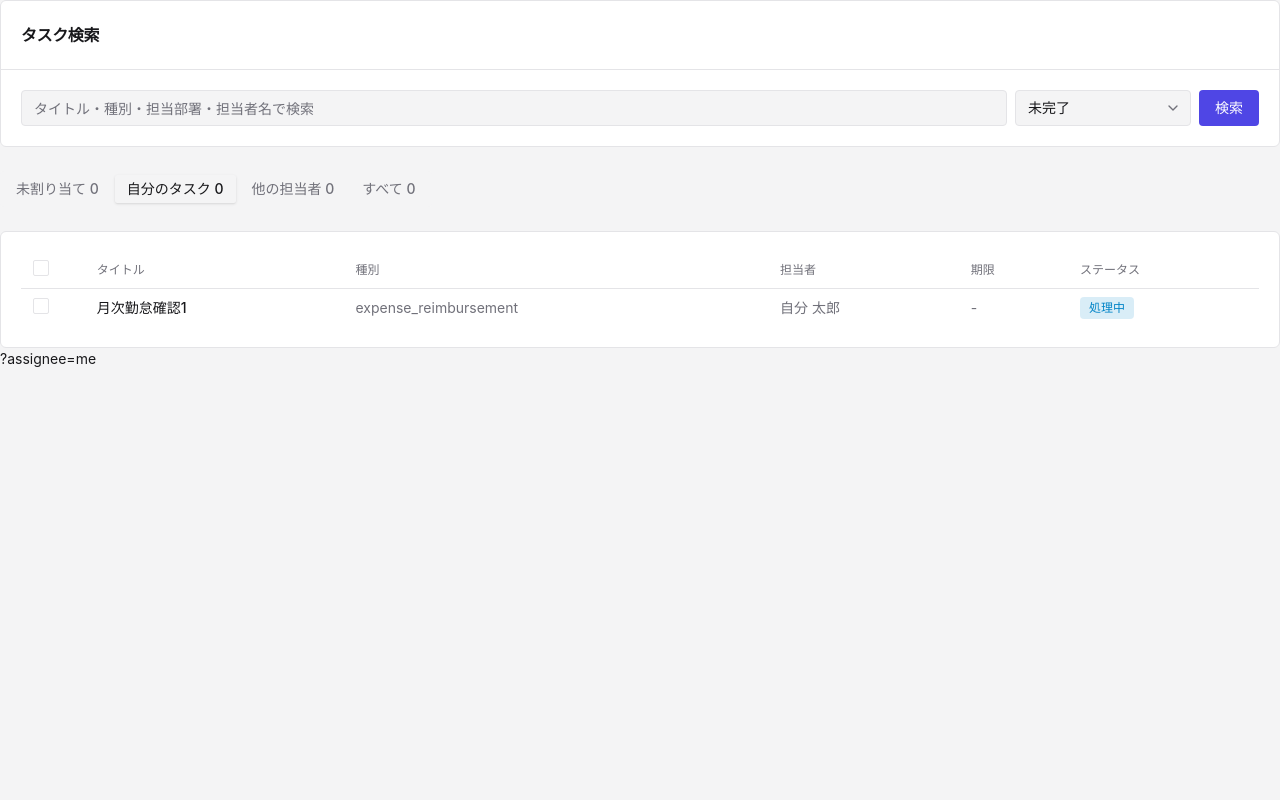
Test: BackOfficeTaskListPage › shows the API reason inside the dialog and keeps the selection when bulk completion fails as a whole
The image size is (1280, 800).
What coordinates should you click on to do the following:
click the checkbox named "月次勤怠確認1を選択"
I would click on:
 (41, 306)
Its box is [33, 298, 49, 314].
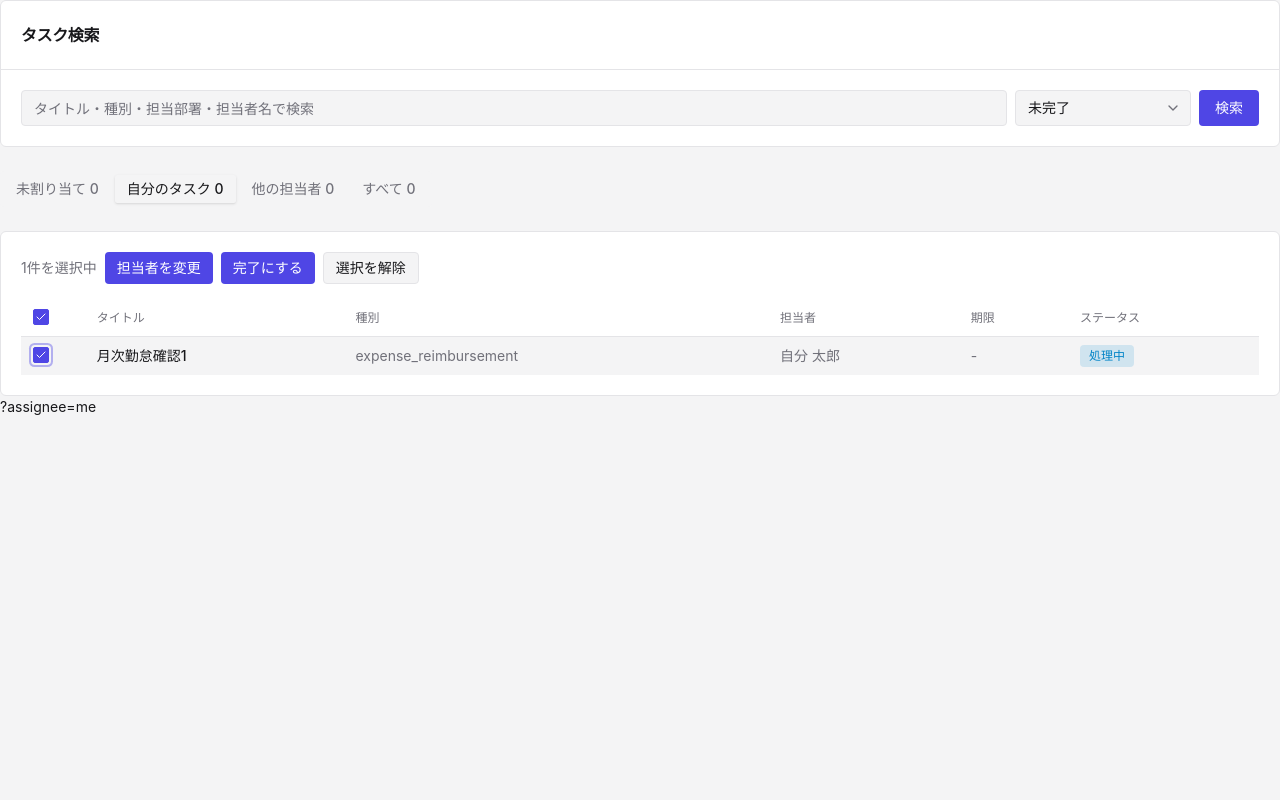
What coordinates should you click on to do the following:
click the button "完了にする"
I would click on:
 (268, 268)
Its box is [221, 252, 315, 284].
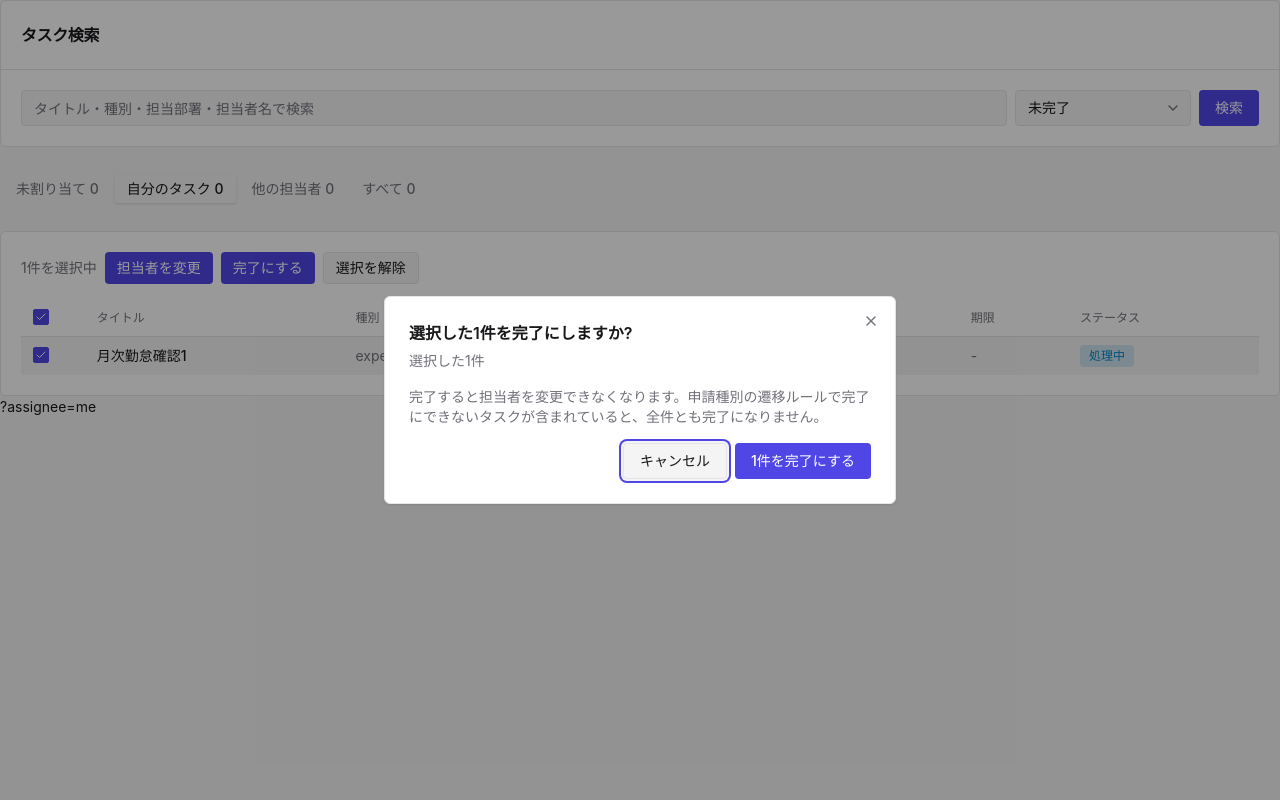
What coordinates should you click on to do the following:
click the button "1件を完了にする"
I would click on:
 (803, 461)
Its box is [735, 443, 871, 479].
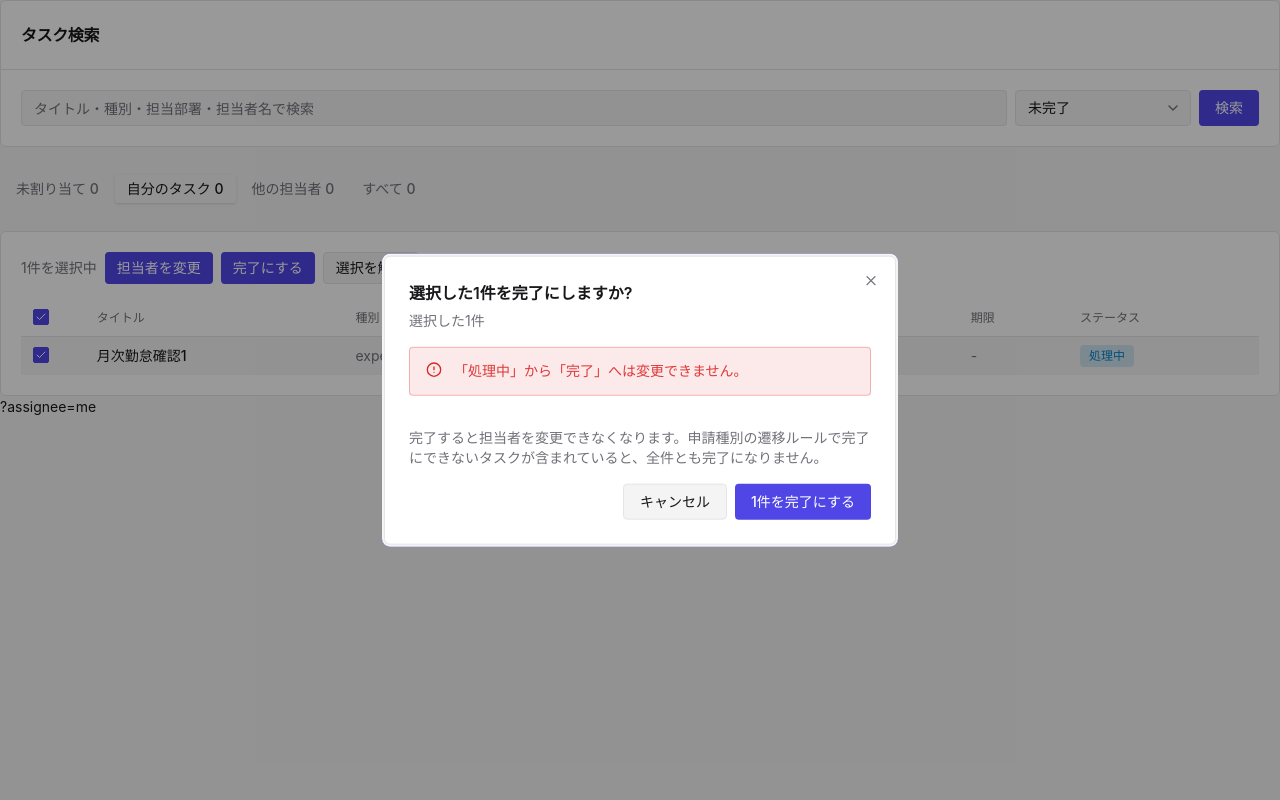
Expected: the dialog is shown, [384, 256, 896, 544]
Expected: the text "1件を選択中" is shown, [21, 258, 97, 278]
Expected: the text "「処理中」から「完了」へは変更できません。" is shown, [454, 360, 748, 382]
